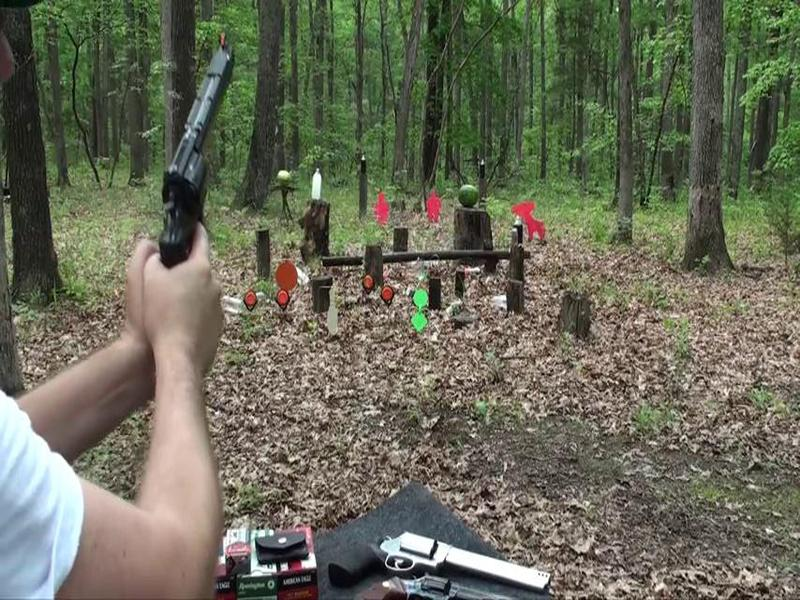Revolver: (139, 22, 246, 291)
